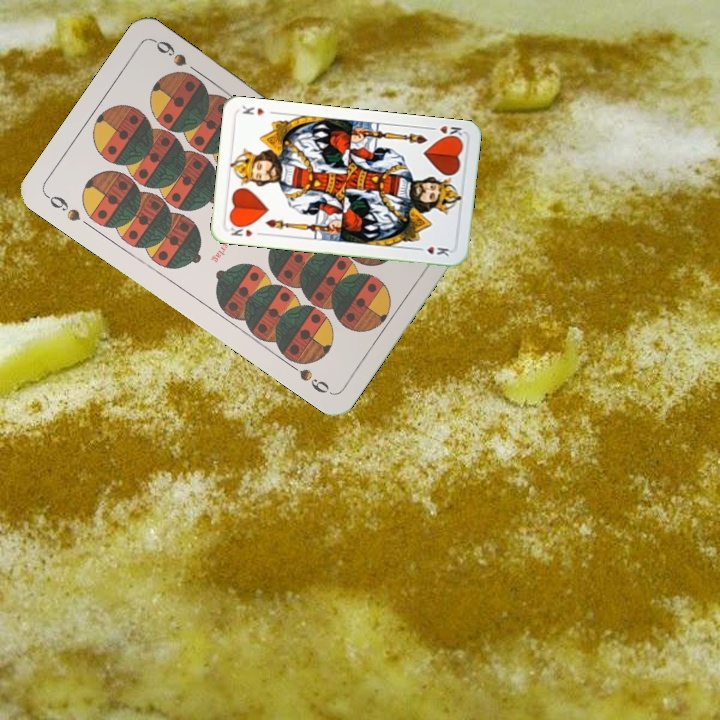HK: (425, 121, 466, 142), (227, 220, 265, 239)
S9: (42, 190, 84, 224)
